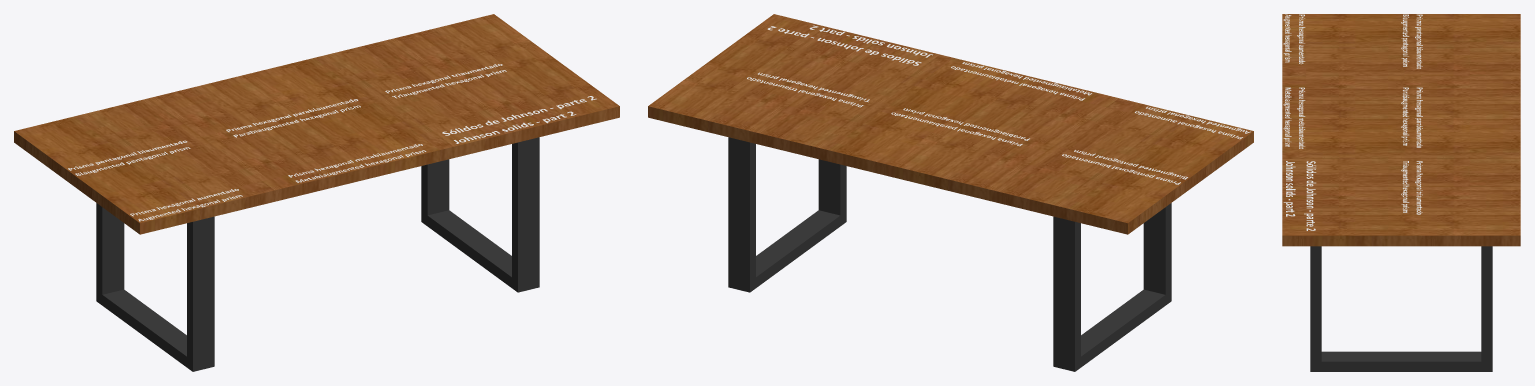
The model's file is johnson2e.glb.
3 renders of one model, left to right at view 1: azimuth 30°, elevation 25°; view 2: azimuth 150°, elevation 25°; view 3: azimuth 270°, elevation 25°, orthographic. The views are drawn at different scales.
Parts seen in each view (by area): view 1: object 1, Composant#1 (×2), Sólidos de Johns#1, Prisma hexagonal#2, Prisma hexagonal#1, Prisma pentagona, Prisma hexagonal#3, Prisma hexagonal; view 2: object 1, Composant#1 (×2), Sólidos de Johns#1, Prisma hexagonal#2, Prisma hexagonal#1, Prisma pentagona, Prisma hexagonal#3, Prisma hexagonal; view 3: object 1, Composant#1, Sólidos de Johns#1, Prisma hexagonal#2, Prisma hexagonal#1, Prisma pentagona, Prisma hexagonal#3, Prisma hexagonal.
Boxes of the visible parts, box(x1,y1,x2,y2) form: object 1: box(14, 14, 619, 234); Composant#1 (×2): box(96, 137, 539, 371); Sólidos de Johns#1: box(442, 96, 596, 143); Prisma hexagonal#2: box(288, 144, 426, 182); Prisma hexagonal#1: box(226, 99, 360, 137); Prisma pentagona: box(68, 140, 190, 175); Prisma hexagonal#3: box(385, 64, 506, 98); Prisma hexagonal: box(130, 189, 242, 221); object 1: box(648, 14, 1253, 234); Composant#1 (×2): box(728, 137, 1171, 371); Sólidos de Johns#1: box(767, 25, 932, 65); Prisma hexagonal#2: box(951, 62, 1091, 100); Prisma hexagonal#1: box(891, 108, 1029, 146); Prisma pentagona: box(1062, 150, 1187, 184); Prisma hexagonal#3: box(747, 72, 869, 107); Prisma hexagonal: box(1135, 106, 1250, 139); object 1: box(1282, 14, 1520, 246); Composant#1: box(1310, 246, 1492, 371); Sólidos de Johns#1: box(1283, 161, 1316, 230); Prisma hexagonal#2: box(1283, 87, 1305, 148); Prisma hexagonal#1: box(1401, 87, 1422, 147); Prisma pentagona: box(1401, 14, 1422, 68); Prisma hexagonal#3: box(1401, 161, 1422, 214); Prisma hexagonal: box(1283, 14, 1305, 64).
Size of the model in its own units: 2.2 by 0.7711 by 1.
Materials: 3 (1 with a texture image).
